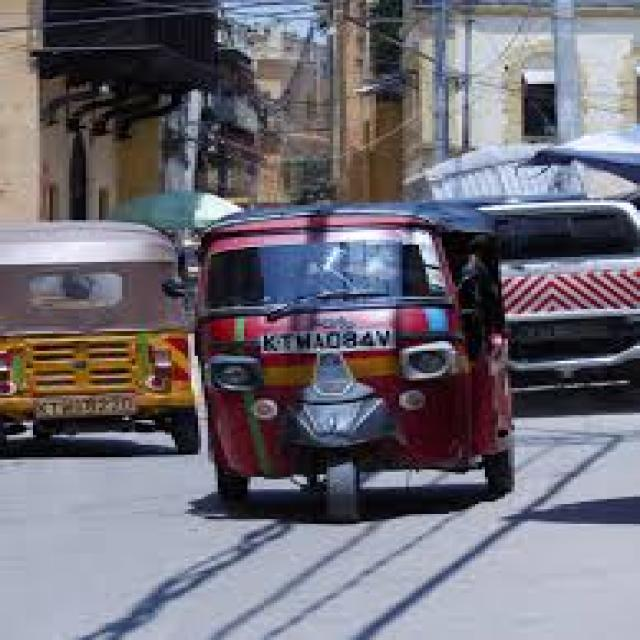tuktuk: (165, 130, 600, 565)
